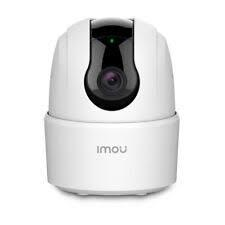maru: (46, 17, 180, 122)
